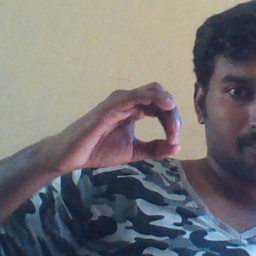O: (71, 79, 188, 171)
